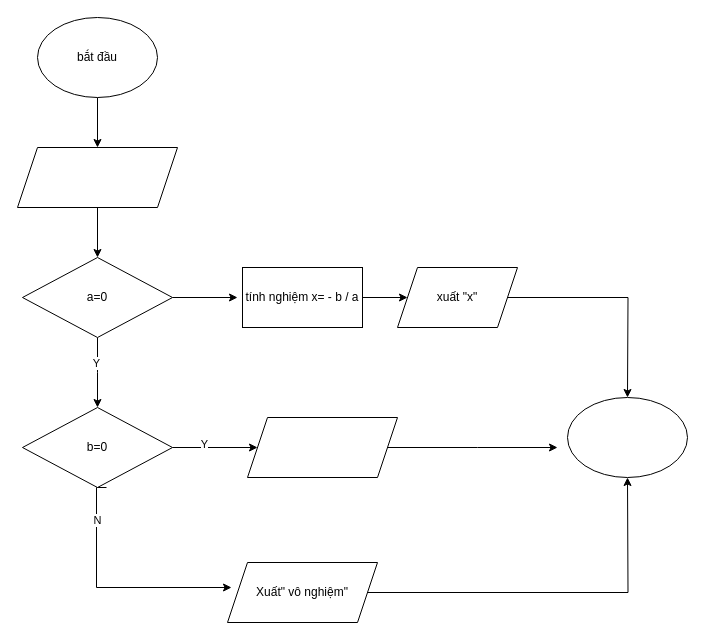
This 705x640 diagram has some shape labels left out. The centre of each missing label's shape, as x and y in pixels:
kết thúc: the point at 627,437
nhập a,b: the point at 97,177
Xuất" vô số nghiệm": the point at 322,447
